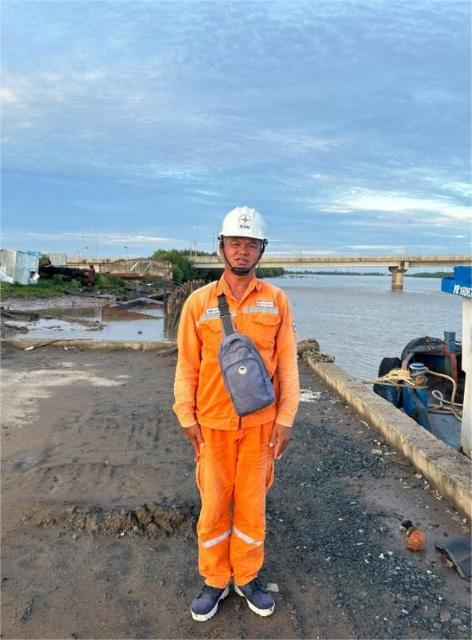helmet: (198, 193, 284, 258)
shoes: (184, 567, 236, 627), (240, 573, 281, 618)
